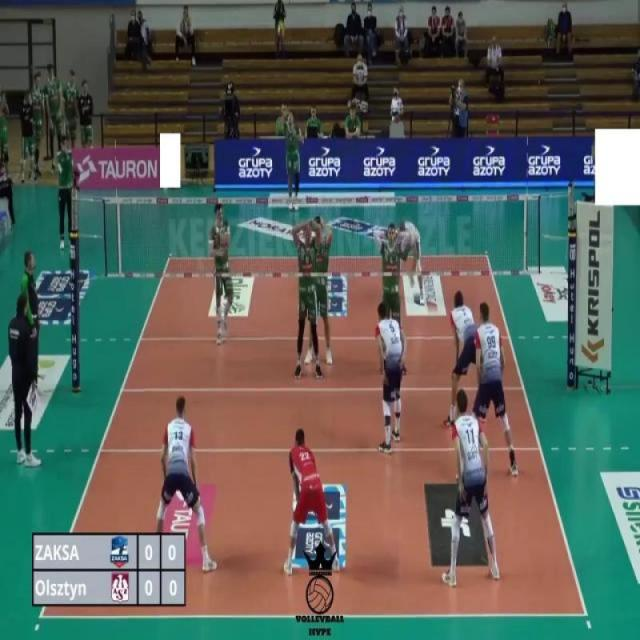volleyball: (276, 18, 286, 42)
